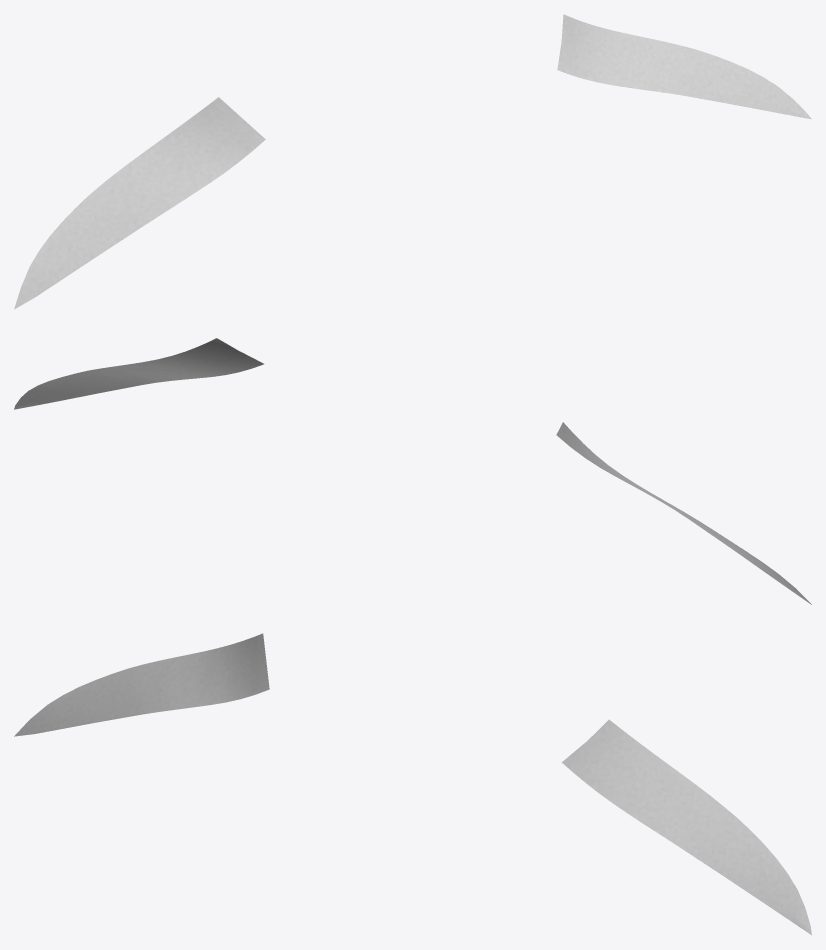
The model's file is Jac_COP_TOP.glb.
3 views of the same model, one above another, from view 1: azimuth 30°, elevation 25°; view 2: azimuth 150°, elevation 25°; view 3: azimuth 330°, elevation 25° (orthographic).
Visible parts, largest first — view 1: Jac_COP_TOP1; view 2: Jac_COP_TOP1; view 3: Jac_COP_TOP1.
Boxes of the visible parts, box(x1,y1,x2,y2) form: Jac_COP_TOP1: box(14, 14, 811, 309); Jac_COP_TOP1: box(14, 338, 811, 604); Jac_COP_TOP1: box(14, 633, 811, 935).
Bounding box in the file's own units: 0.6478 × 0.1121 × 0.0396.
1 material, 1 textured.
